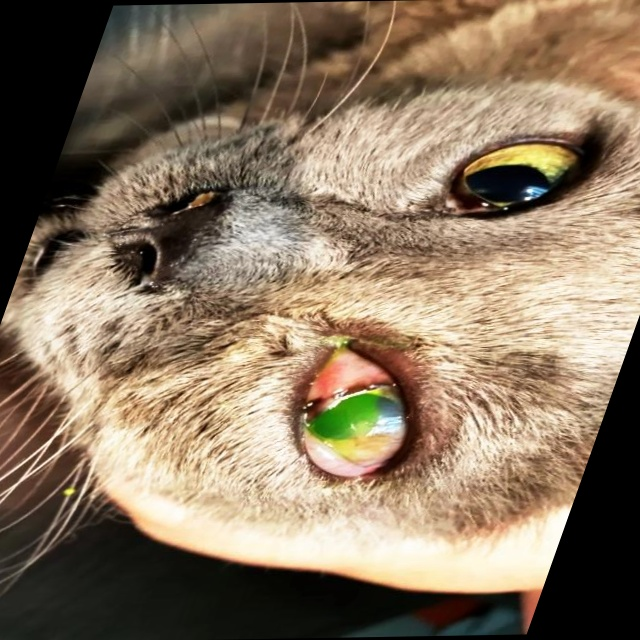eye_infection: (288, 353, 445, 481), (430, 138, 602, 218)
